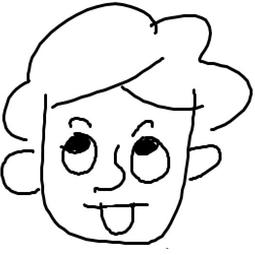ear: (2, 147, 41, 199), (182, 140, 227, 182)
eye: (128, 137, 176, 186), (58, 130, 99, 177)
eyebrow: (67, 115, 93, 130)
frowning_eyebrow: (132, 118, 154, 135)
nose: (97, 142, 127, 196)
open_mouth: (78, 202, 157, 238)
